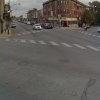Crosswalk: (14, 34, 94, 57)
